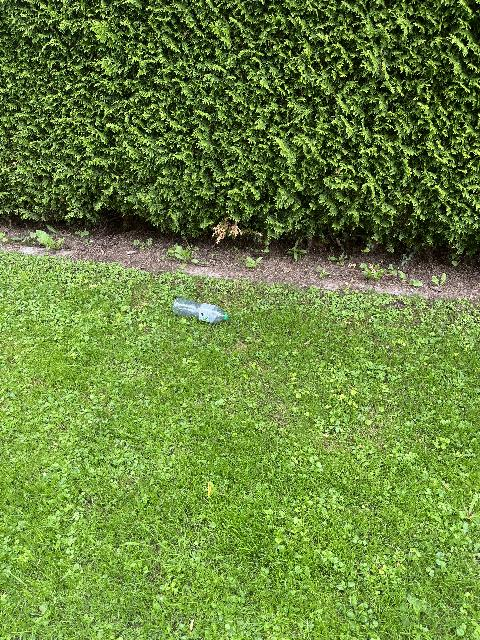plastic_bottle: (171, 297, 232, 326)
